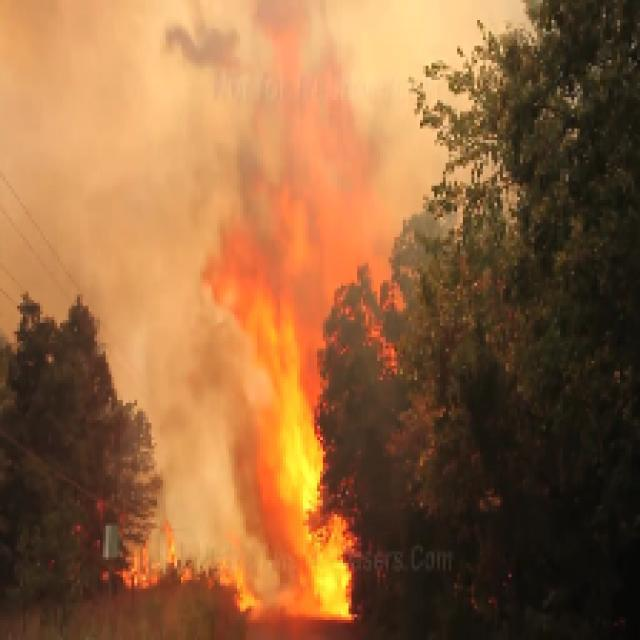Smoke: (140, 3, 483, 640)
